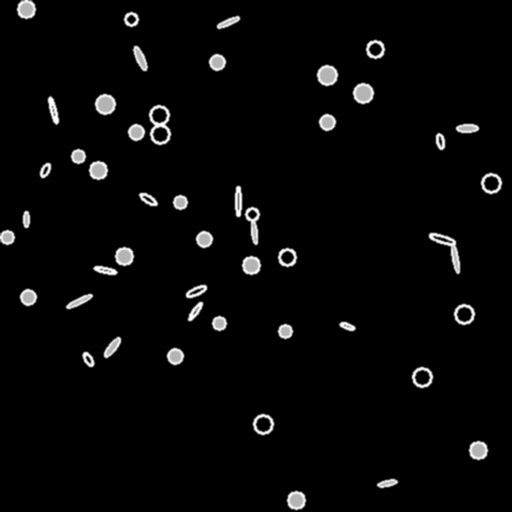pseudomonas: (102, 336, 122, 358), (132, 45, 148, 71), (66, 293, 92, 309), (428, 232, 456, 246), (216, 15, 240, 29), (187, 301, 203, 321), (138, 191, 158, 207), (47, 97, 59, 123), (185, 284, 207, 298), (450, 244, 460, 272), (93, 265, 117, 275), (38, 162, 52, 178), (81, 351, 95, 367), (250, 221, 258, 243), (339, 321, 355, 331), (457, 124, 477, 132), (236, 186, 241, 216), (378, 479, 396, 487), (436, 133, 444, 149), (23, 211, 28, 226)
synechocystis: (254, 415, 272, 433), (413, 368, 431, 386), (455, 305, 473, 323), (354, 84, 372, 102), (482, 174, 500, 192), (150, 106, 168, 124), (96, 95, 114, 113), (151, 125, 169, 143), (318, 66, 336, 84), (279, 249, 295, 265), (367, 41, 383, 57), (288, 492, 304, 508), (90, 162, 106, 178), (18, 1, 34, 17), (470, 442, 486, 458), (116, 248, 132, 264), (243, 257, 259, 273), (320, 115, 334, 129), (197, 232, 211, 246), (129, 125, 143, 139), (21, 290, 35, 304), (168, 349, 182, 363), (210, 55, 224, 69), (174, 196, 186, 208), (125, 13, 137, 25), (1, 231, 13, 243), (246, 208, 258, 220), (279, 325, 291, 337), (213, 317, 225, 329), (72, 150, 84, 162)
